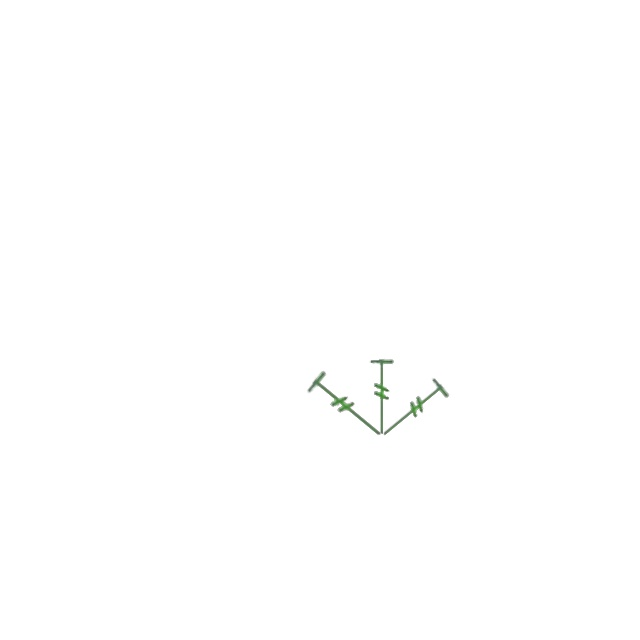fan: (304, 368, 392, 448), (373, 375, 452, 446), (368, 358, 396, 436)
